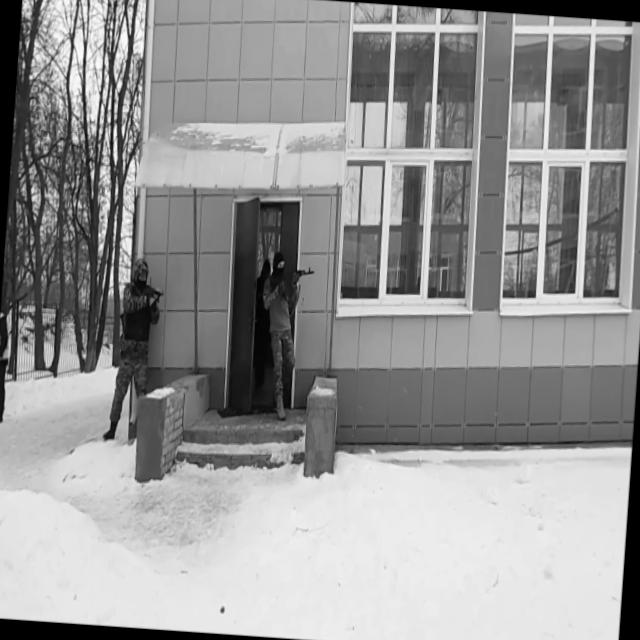gun: (0, 294, 15, 426), (278, 254, 316, 304), (139, 278, 168, 312)
person with a gun: (112, 258, 166, 437), (261, 245, 320, 408)
